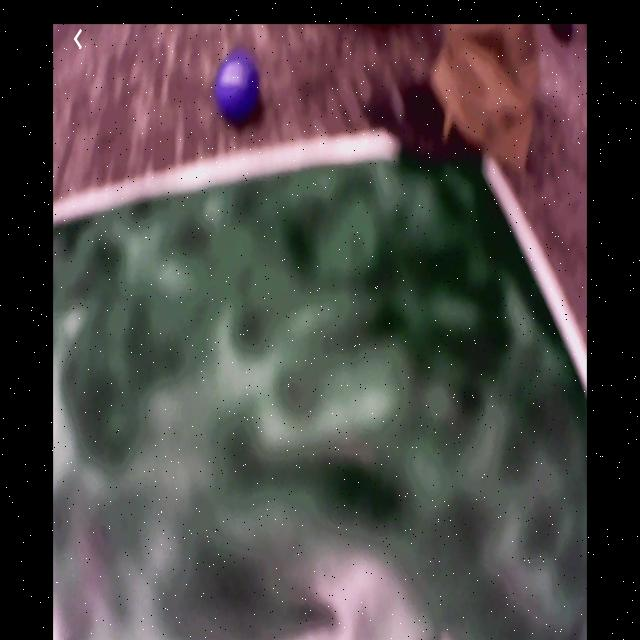ball: (214, 57, 259, 120)
